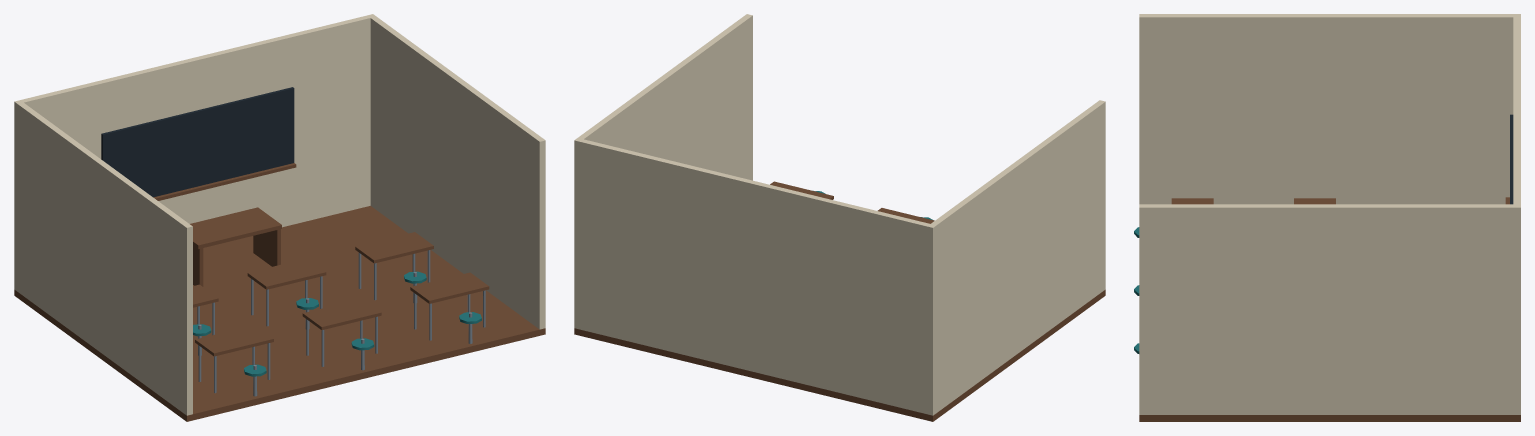
File: classroom-lod1.glb
3 renders of one model, left to right at view 1: azimuth 30°, elevation 25°; view 2: azimuth 150°, elevation 25°; view 3: azimuth 270°, elevation 25°, orthographic. The views are drawn at different scales.
Parts seen in each view (by area): view 1: side-wall (×2), floor, back-wall, chalkboard, teacher-desk, desk-1-1, desk-0-0, desk-1--1, desk-1-0, desk-0-1, teacher-desk-side, chalk-tray; view 2: back-wall, side-wall (×2), floor; view 3: side-wall (×2), back-wall, floor, chalkboard.
Boxes of the visible parts, x1,y1,x2,y2 form: side-wall (×2): (14,14,545,415); floor: (14,206,545,421); back-wall: (14,14,376,291); chalkboard: (101,87,294,197); teacher-desk: (190,207,281,248); desk-1-1: (410,272,489,303); desk-0-0: (247,258,326,289); desk-1--1: (195,325,273,356); desk-1-0: (302,298,381,329); desk-0-1: (355,232,433,263); teacher-desk-side: (253,226,280,266); chalk-tray: (153,163,296,200); back-wall: (574,138,936,415); side-wall (×2): (574,14,1105,415); floor: (574,289,1105,421); side-wall (×2): (1139,14,1520,414); back-wall: (1513,14,1520,414); floor: (1139,415,1520,421); chalkboard: (1510,114,1513,204).
Size of the model in its own units: 6 by 3.1 by 5.07.
